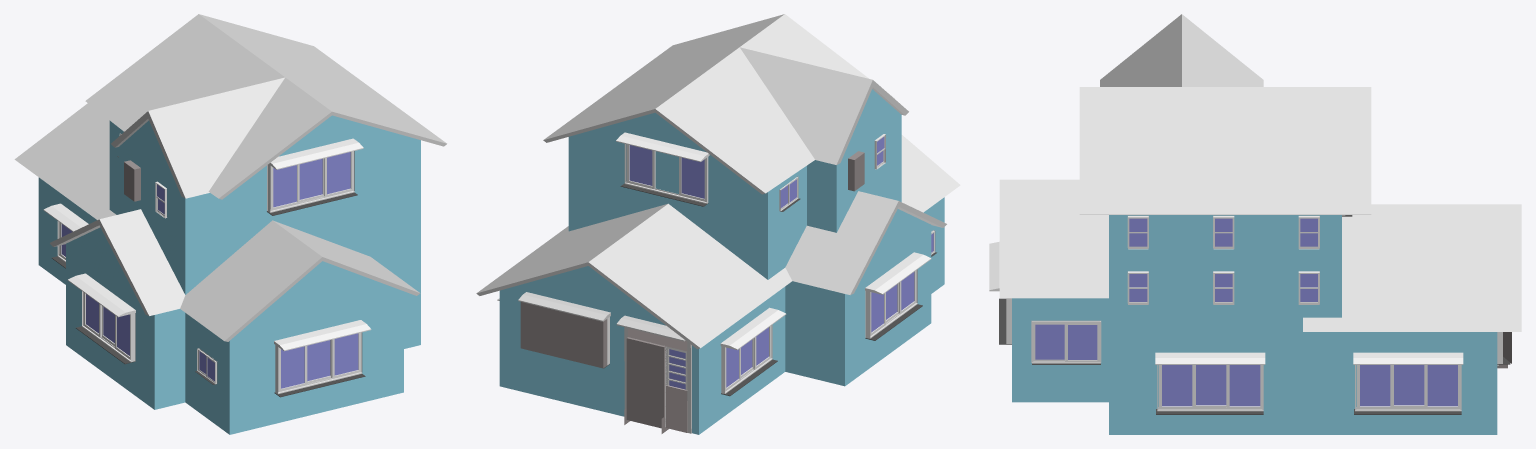
Rendered from House.fbx.
3 views of the same model, side by side, from view 1: azimuth 30°, elevation 25°; view 2: azimuth 150°, elevation 25°; view 3: azimuth 270°, elevation 25° (orthographic). The views are drawn at different scales.
Visible parts, largest first — view 1: main, roof, Windows_Sill.002, Windows_Sill.001, Windows_Sill.004, Windows_Sill.003, CTRL_Hole.006, WindowFrame.001; view 2: roof, main, CTRL_Hole.003, Windows_Sill.005, CTRL_Hole, Windows_Sill.004, Windows_Sill.003, Plane, CTRL_Hole.001, Window, Plane.002, DoorFrame.001 (+3 smaller); view 3: roof, main, Windows_Sill.006, WindowFrame.008, WindowFrame.005, WindowFrame.006, Windows_Sill.002.
Boxes of the visible parts, bbox=[...] form: main: bbox=[38, 115, 420, 434]; roof: bbox=[14, 14, 446, 341]; Windows_Sill.002: bbox=[274, 320, 371, 397]; Windows_Sill.001: bbox=[267, 138, 363, 215]; Windows_Sill.004: bbox=[67, 273, 135, 364]; Windows_Sill.003: bbox=[43, 203, 88, 268]; CTRL_Hole.006: bbox=[124, 160, 140, 201]; WindowFrame.001: bbox=[195, 348, 217, 384]; roof: bbox=[476, 14, 960, 349]; main: bbox=[499, 89, 944, 434]; CTRL_Hole.003: bbox=[520, 302, 607, 368]; Windows_Sill.005: bbox=[616, 132, 709, 206]; CTRL_Hole: bbox=[626, 337, 666, 428]; Windows_Sill.004: bbox=[865, 252, 931, 340]; Windows_Sill.003: bbox=[720, 307, 786, 396]; Plane: bbox=[518, 292, 610, 321]; CTRL_Hole.001: bbox=[666, 385, 687, 432]; Window: bbox=[666, 346, 687, 390]; Plane.002: bbox=[616, 315, 685, 341]; DoorFrame.001: bbox=[624, 327, 691, 433]; roof: bbox=[999, 14, 1521, 331]; main: bbox=[1012, 215, 1497, 434]; Windows_Sill.006: bbox=[1155, 352, 1463, 414]; WindowFrame.008: bbox=[1031, 320, 1101, 364]; WindowFrame.005: bbox=[1127, 215, 1319, 249]; WindowFrame.006: bbox=[1127, 271, 1319, 304]; Windows_Sill.002: bbox=[989, 241, 1011, 344].
Size of the model in its own units: 591 by 507 by 823.
